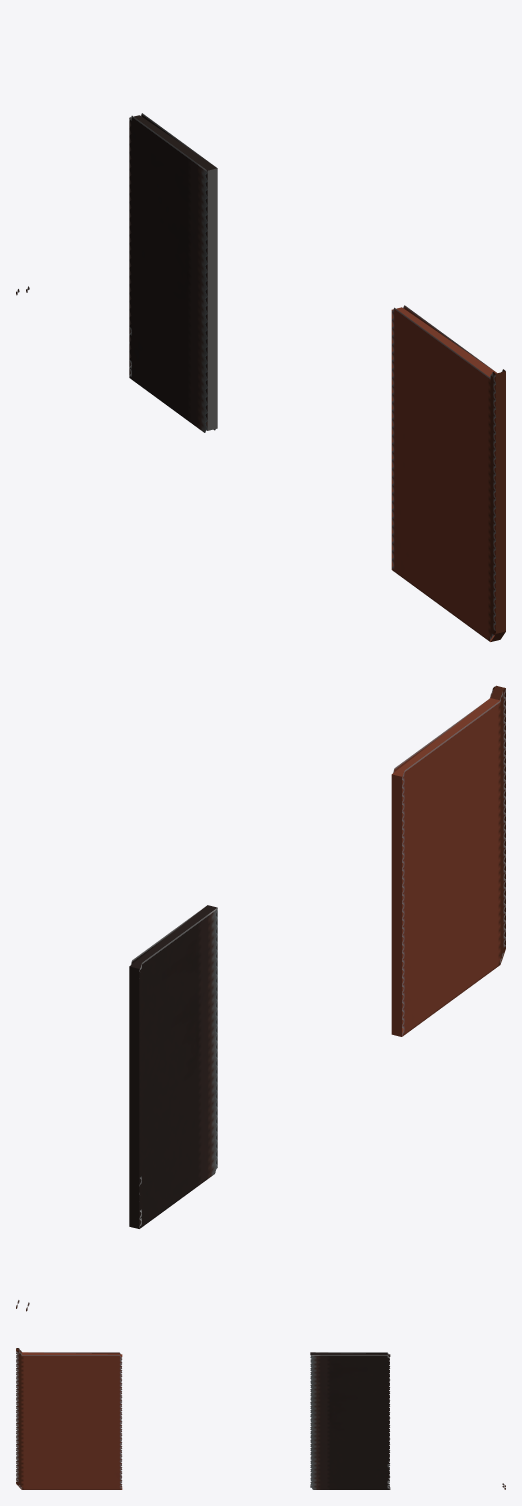
The model's file is pz_native_location_restaurant_seahorse_01_20_frame.obj.
3 renders of one model, top to bottom at view 1: azimuth 30°, elevation 25°; view 2: azimuth 150°, elevation 25°; view 3: azimuth 270°, elevation 25°, orthographic. The views are drawn at different scales.
Parts seen in each view (by area): view 1: pz_native_location_restaurant_seahorse_01_20_frame; view 2: pz_native_location_restaurant_seahorse_01_20_frame; view 3: pz_native_location_restaurant_seahorse_01_20_frame.
Part boxes in pixels (x1,y1,x2,y2): pz_native_location_restaurant_seahorse_01_20_frame: (16,113,505,641); pz_native_location_restaurant_seahorse_01_20_frame: (16,685,505,1311); pz_native_location_restaurant_seahorse_01_20_frame: (16,1348,505,1489).
Size of the model in its own units: 0.04 by 1.06 by 3.32.
1 material, 1 textured.
